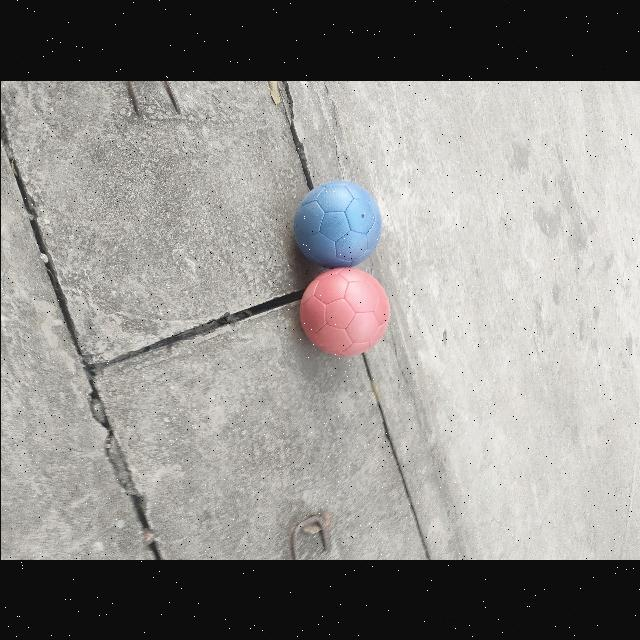B: (293, 179, 381, 267)
R: (298, 267, 388, 355)
